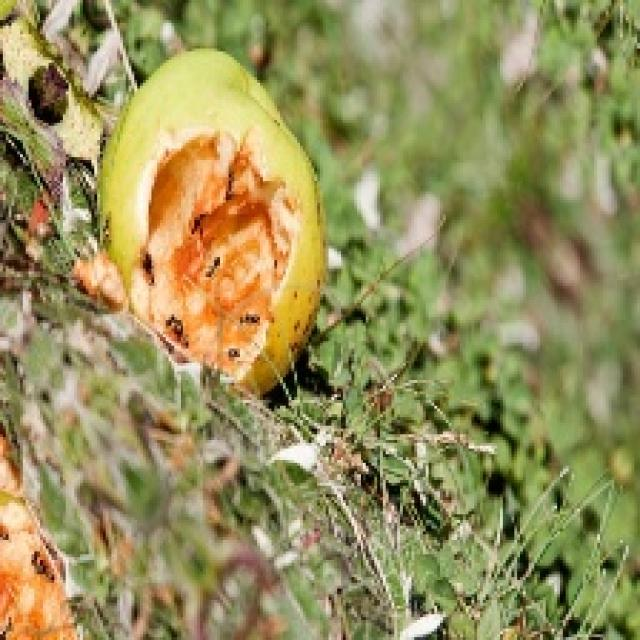rotten_apple: (110, 51, 326, 392)
